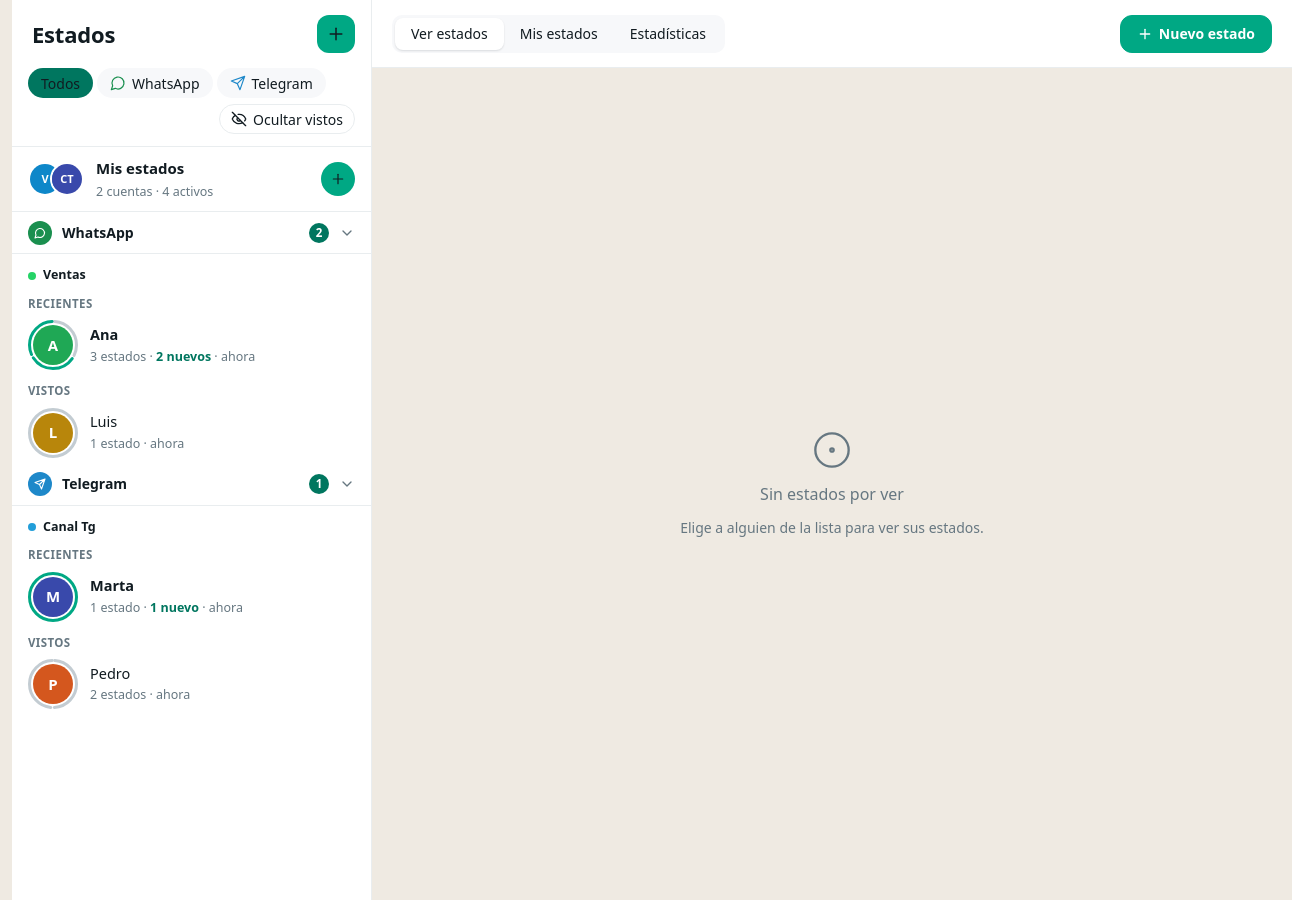
Scenario: StatusesPage · visor en línea › elegir a alguien pinta su tarjeta y pide sus estados con la cuenta de ESE autor
Click the text "Ana".
click(104, 334)  # box left=90, top=324, right=118, bottom=344
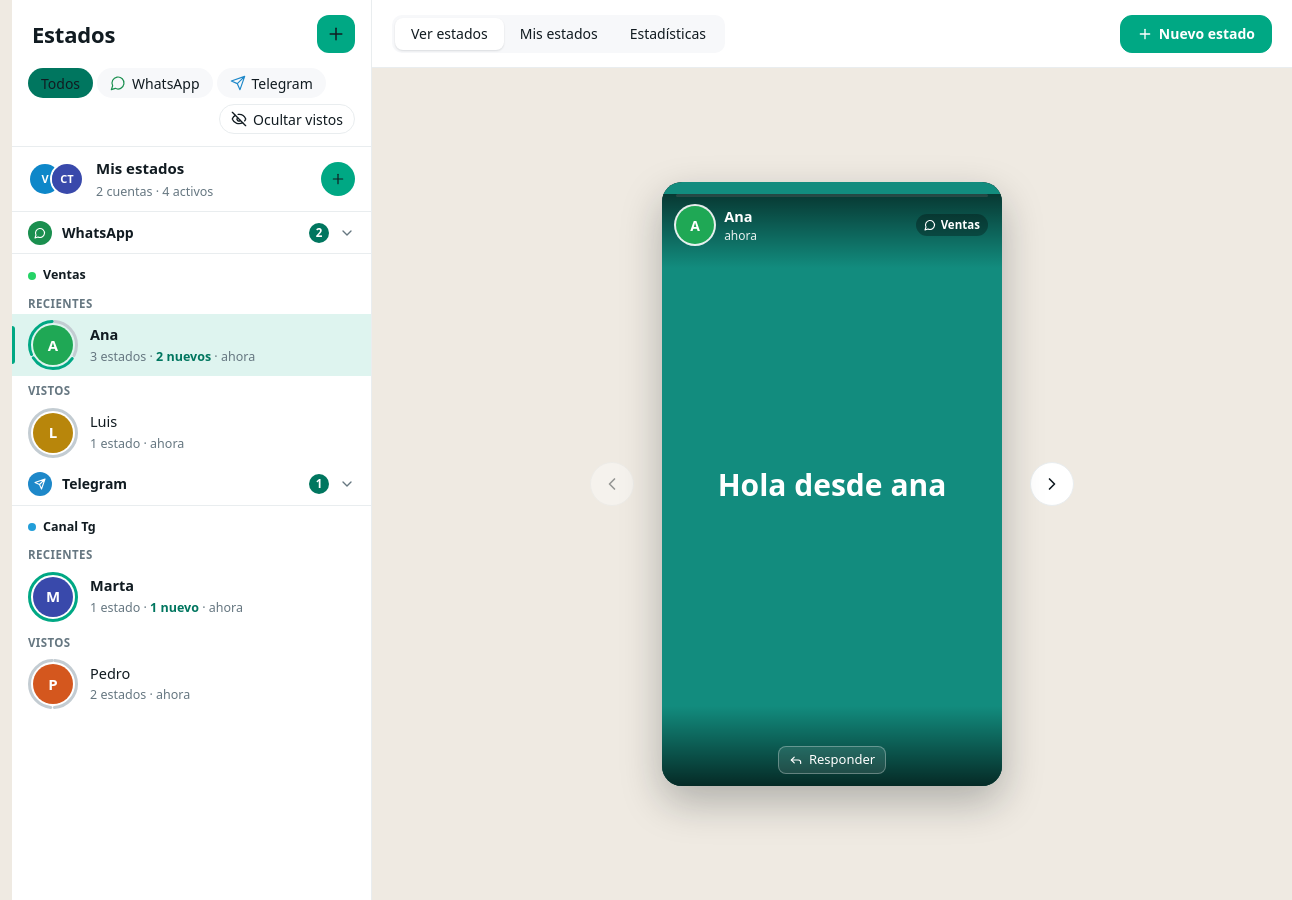
Expected: the element with test id "story-viewer" is shown
Expected: the text "Hola desde ana" is shown, left=718, top=464, right=946, bottom=504
Expected: the element with test id "story-account" reads "Ventas", left=941, top=217, right=980, bottom=232
# otra cuenta: ByAuthor, MarkViewed y la etiqueta salen de la cuenta de Telegram
Click the text "Marta".
click(112, 585)  # box left=90, top=575, right=134, bottom=595
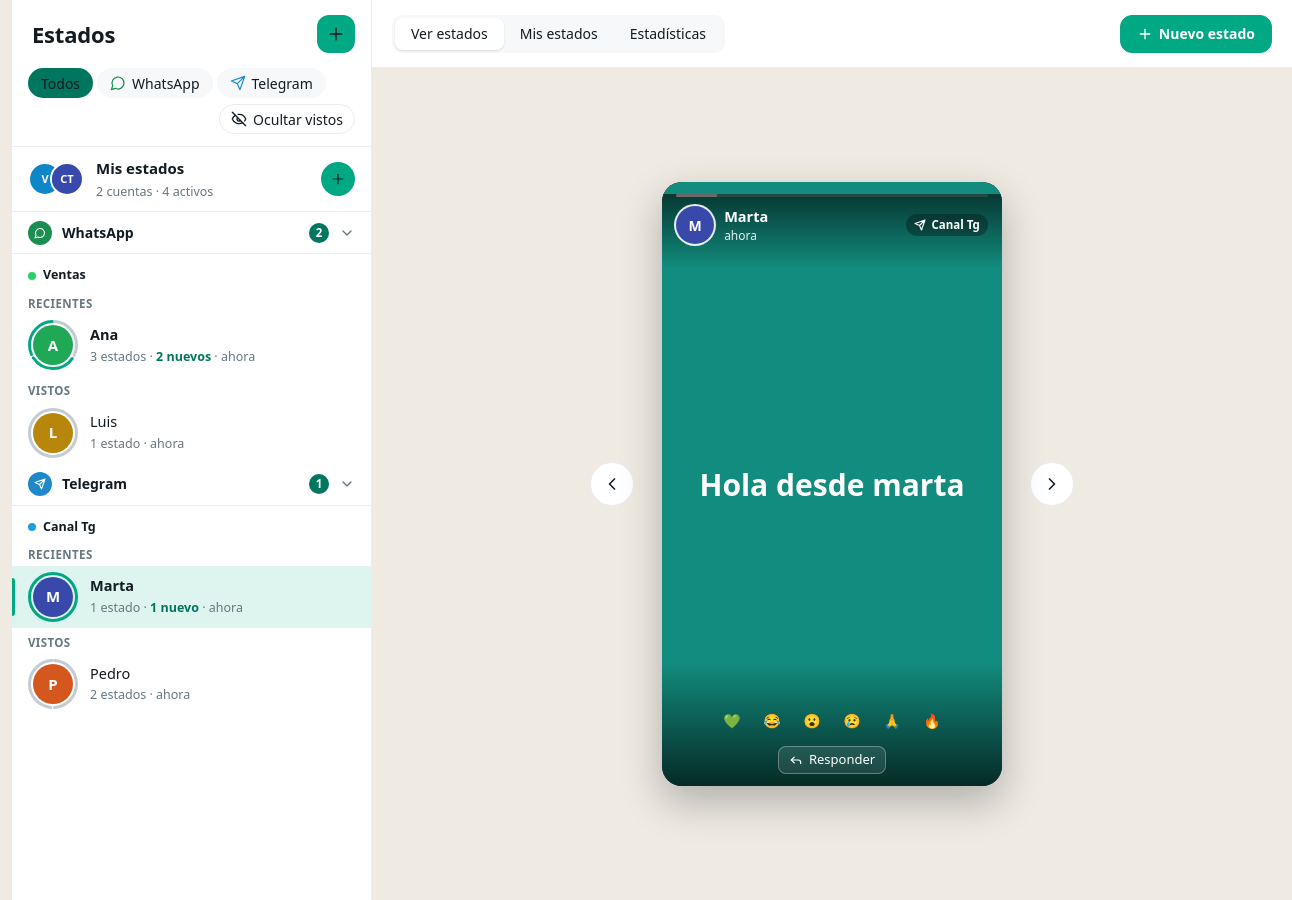
Expected: the text "Hola desde marta" is shown, left=700, top=464, right=965, bottom=504
Expected: the element with test id "story-account" reads "Canal Tg", left=932, top=217, right=980, bottom=232
